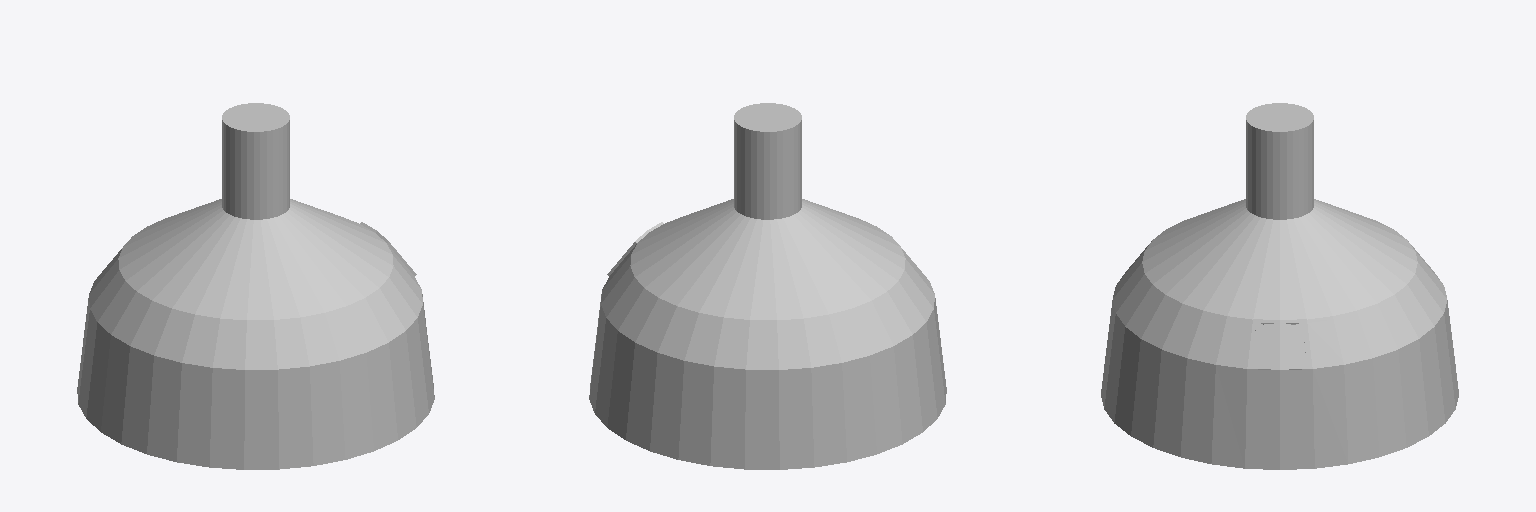
The model's file is boiling.obj.
The picture shows the model from 3 angles: view 1: azimuth 30°, elevation 25°; view 2: azimuth 150°, elevation 25°; view 3: azimuth 270°, elevation 25°; orthographic projection.
Parts seen in each view (by area): view 1: Cylinder; view 2: Cylinder; view 3: Cylinder.
Part boxes in pixels (x1,y1,x2,y2): Cylinder: (77,103,434,469); Cylinder: (589,103,946,469); Cylinder: (1101,103,1458,469).
Bounding box in the file's own units: 5.42 × 4.62 × 5.42.